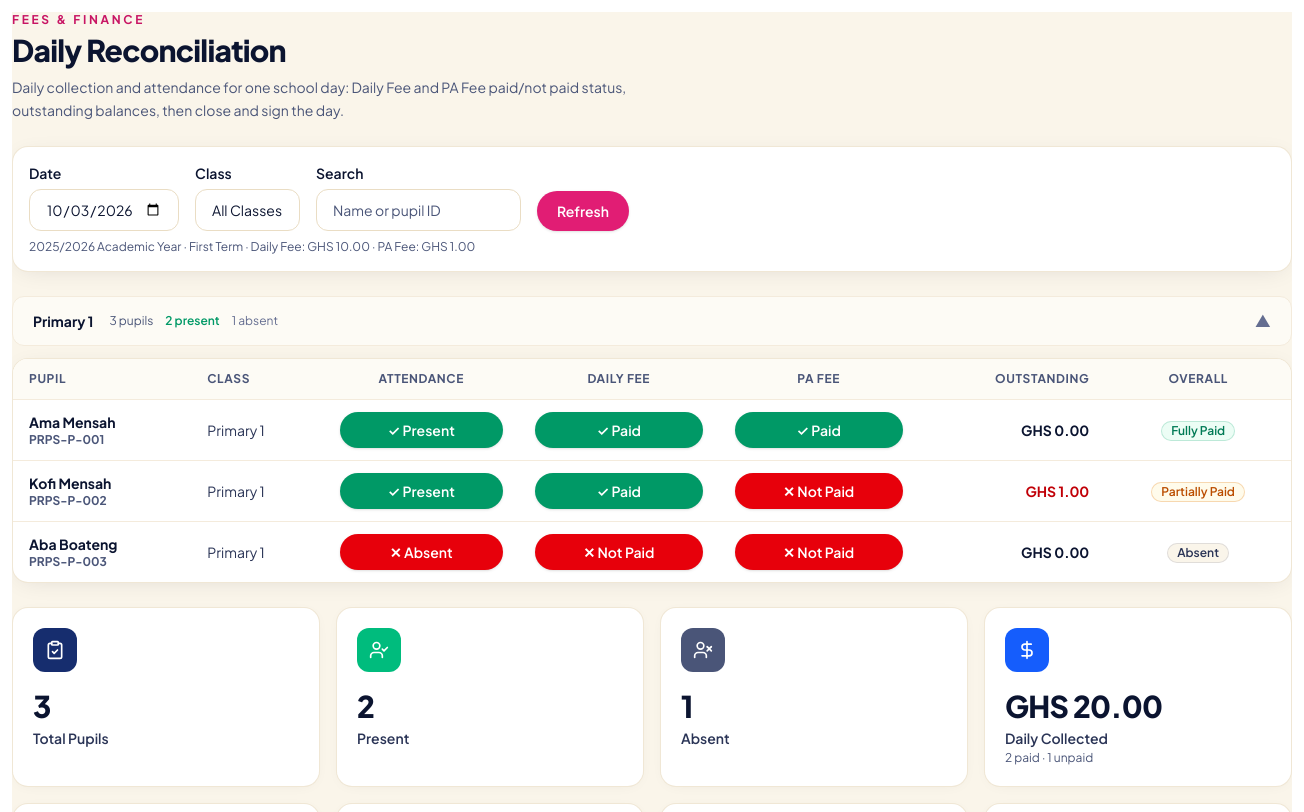
Test: ReconciliationPage › refetches after a successful attendance toggle so the badge reflects server state
Click the button with aria-label "Mark Aba Boateng present" at (421, 552), box [340,534,503,570]
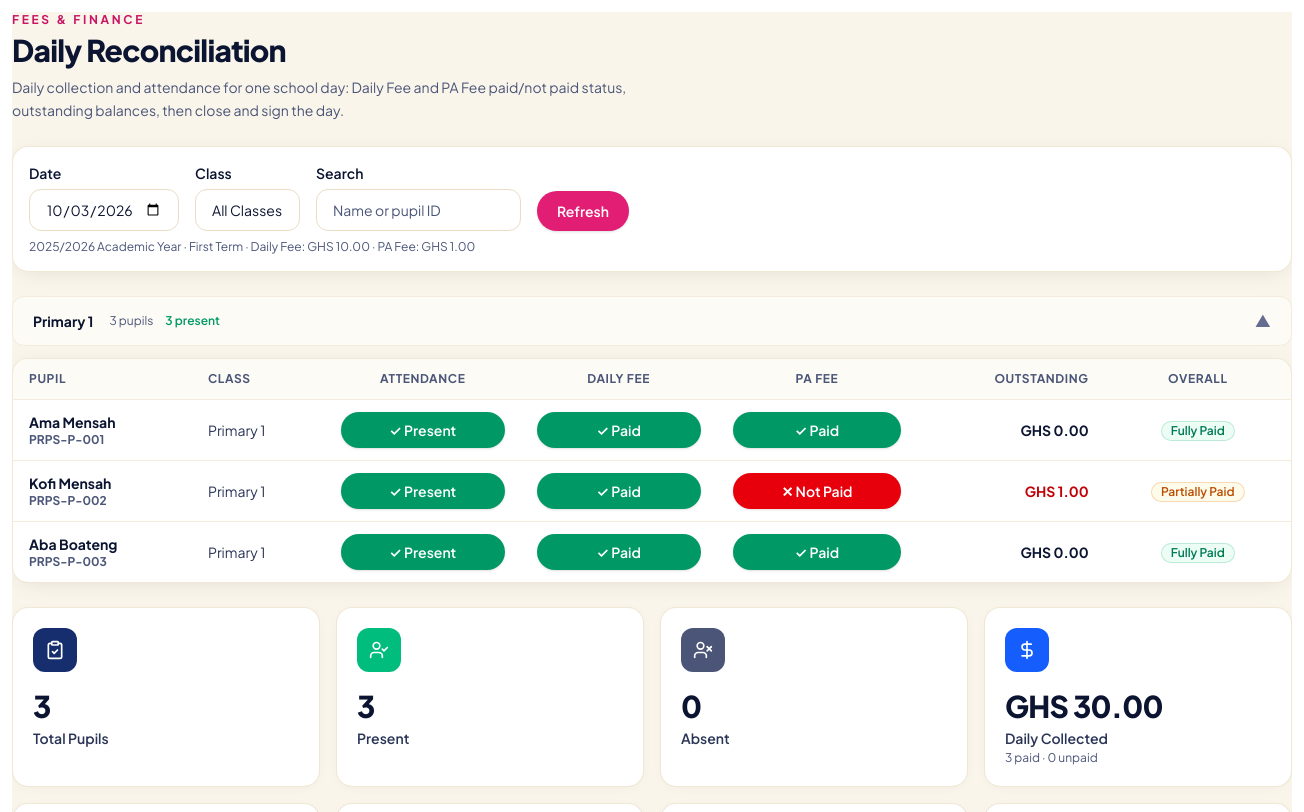
Expected: the text "3 present" is shown, [165,312,220,328]
Expected: the text "1 absent" is gone
